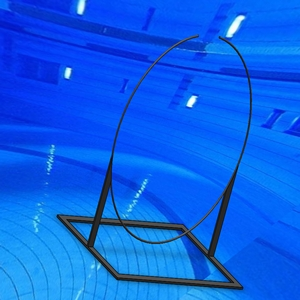circle: (56, 33, 252, 290)
